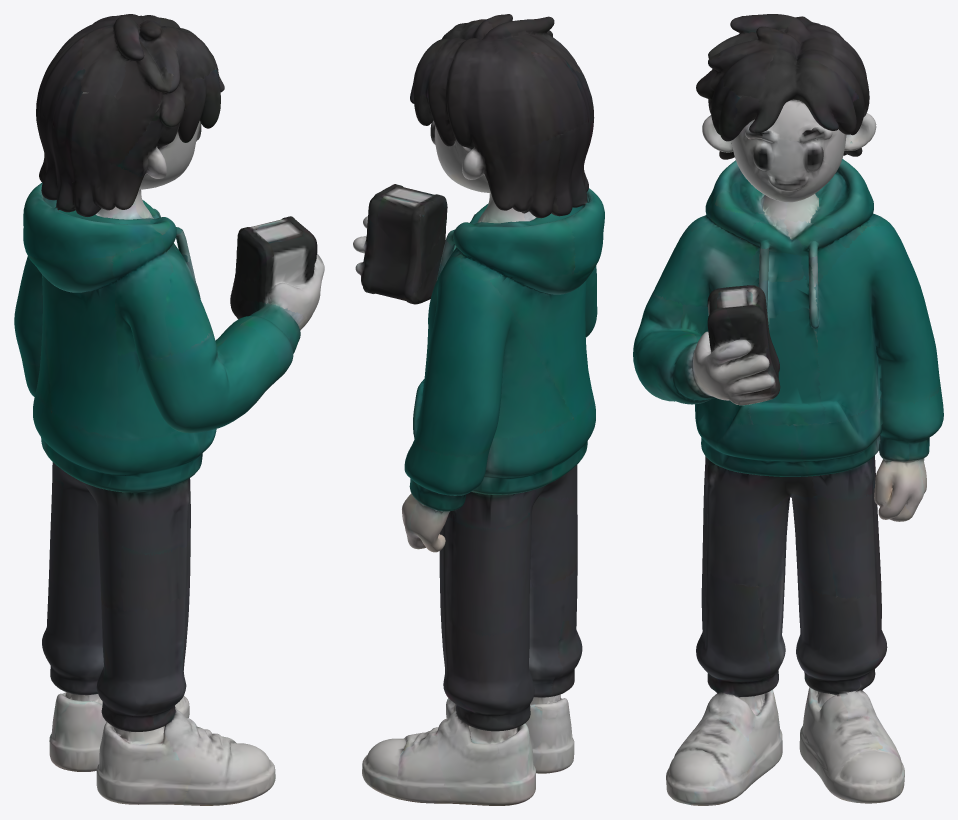
The model's file is audience-01.glb.
3 views of the same model, side by side, from view 1: azimuth 30°, elevation 25°; view 2: azimuth 150°, elevation 25°; view 3: azimuth 270°, elevation 25° (orthographic).
Parts seen in each view (by area): view 1: tripo_node_255d8a49-5ec5-4a4d-9dd0-43c694740c6f; view 2: tripo_node_255d8a49-5ec5-4a4d-9dd0-43c694740c6f; view 3: tripo_node_255d8a49-5ec5-4a4d-9dd0-43c694740c6f.
Boxes of the visible parts, x1,y1,x2,y2 form: tripo_node_255d8a49-5ec5-4a4d-9dd0-43c694740c6f: (14,14,324,805); tripo_node_255d8a49-5ec5-4a4d-9dd0-43c694740c6f: (353,14,604,805); tripo_node_255d8a49-5ec5-4a4d-9dd0-43c694740c6f: (633,14,943,805).
Bounding box in the file's own units: 0.6077 × 1.7 × 0.6396.
1 material, 1 textured.
